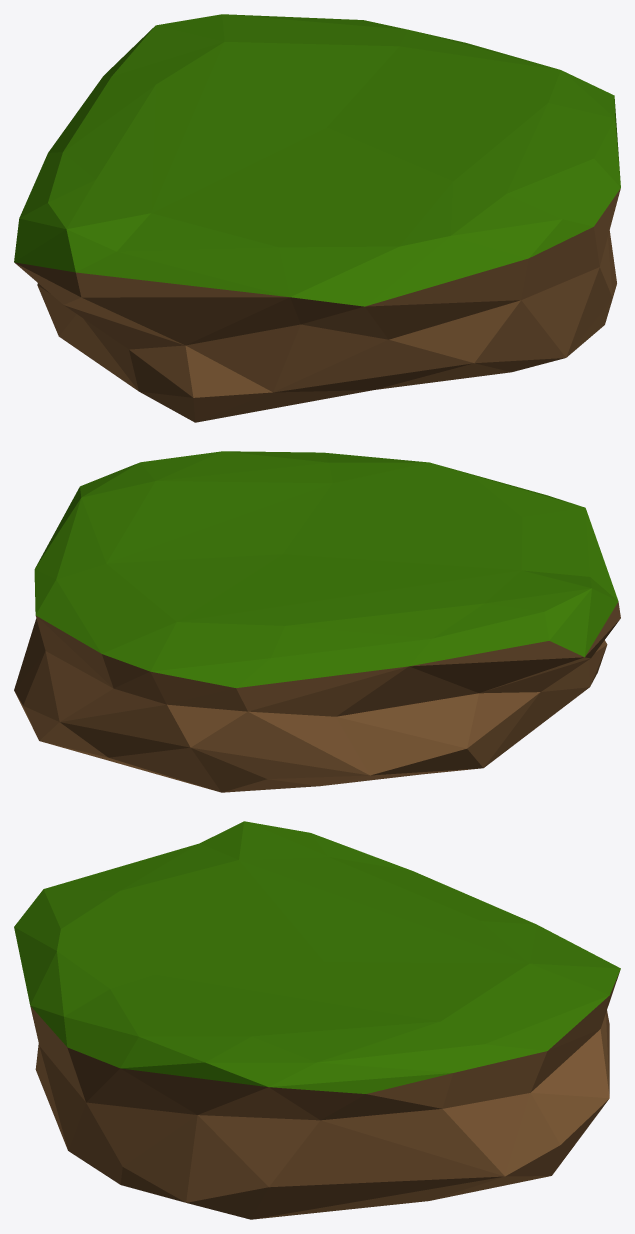
File: Ground_2.glb
3 renders of one model, top to bottom at view 1: azimuth 30°, elevation 25°; view 2: azimuth 150°, elevation 25°; view 3: azimuth 270°, elevation 25°, orthographic. The views are drawn at different scales.
Parts seen in each view (by area): view 1: Ground_02; view 2: Ground_02; view 3: Ground_02.
Part boxes in pixels (left/top/right/bottom): Ground_02: left=14, top=14, right=620, bottom=422; Ground_02: left=14, top=451, right=620, bottom=792; Ground_02: left=14, top=821, right=620, bottom=1219.
Size of the model in its own units: 8.11 by 2.46 by 7.88.
